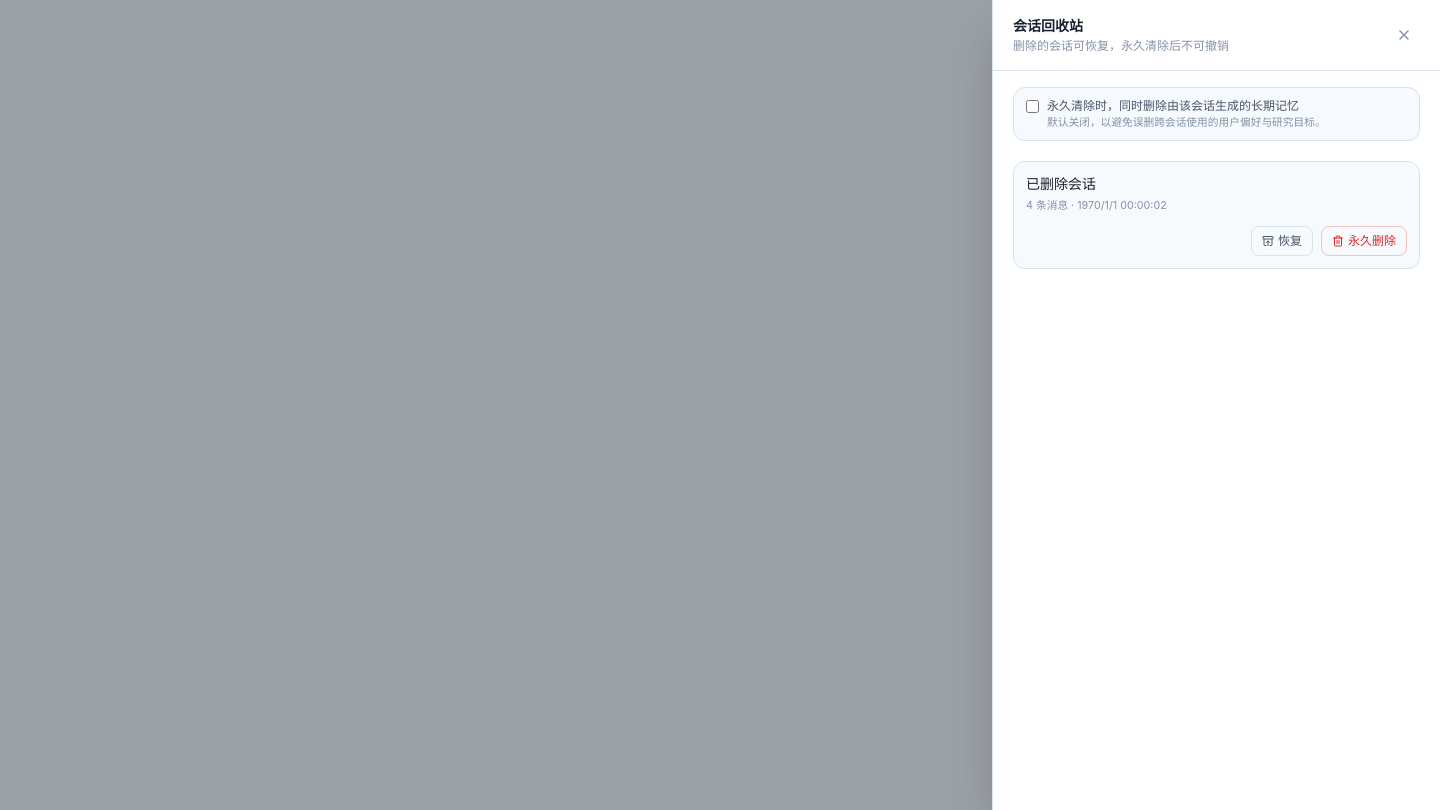
Test: deleted conversation can be restored from recycle bin
The width and height of the screenshot is (1440, 810).
Check: the text "已删除会话" is shown, box [1026,175,1096,192]
What coordinates should you click on to do the following:
click the button "恢复"
I would click on:
 (1282, 241)
Its box is [1251,226,1313,256].
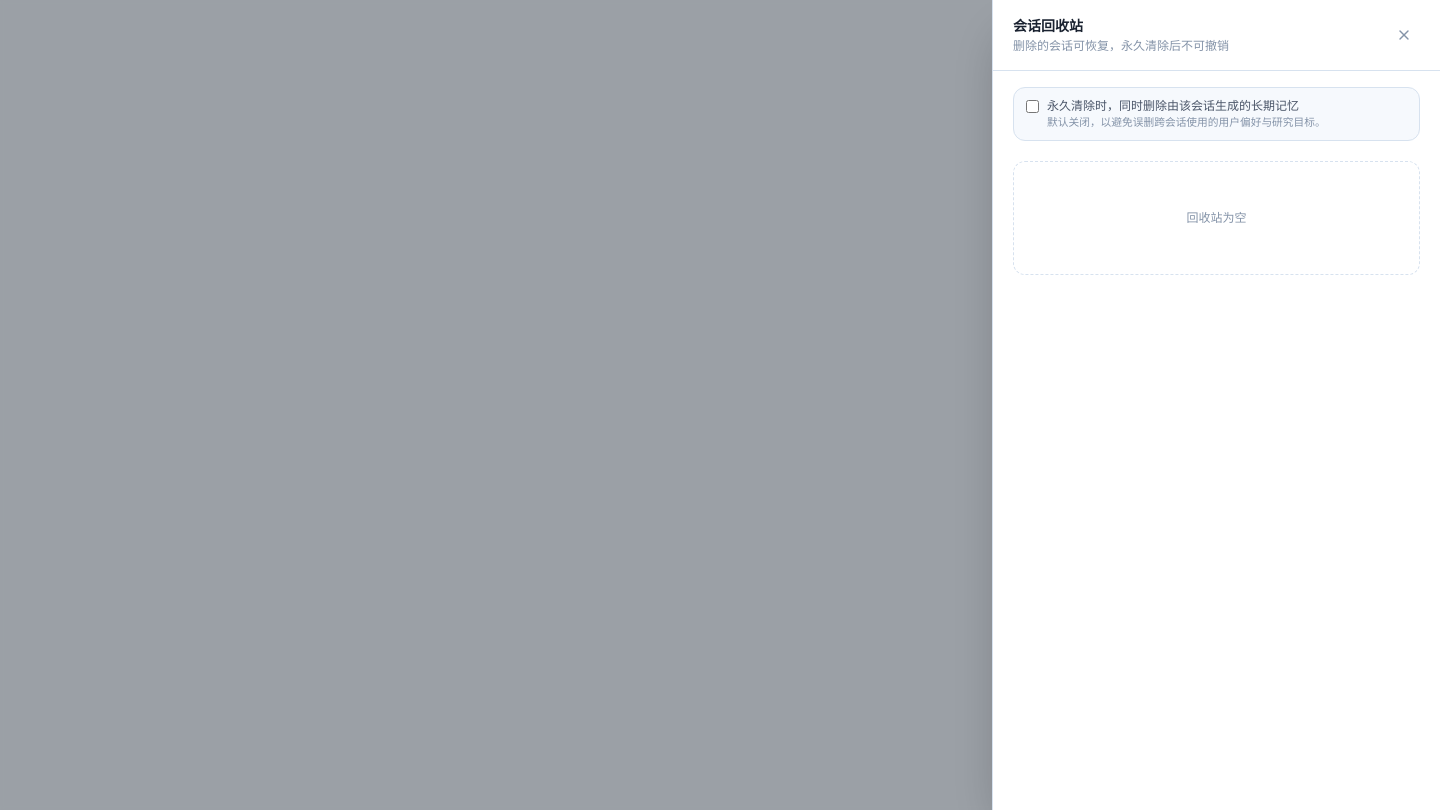
Check: the text "已删除会话" is gone
